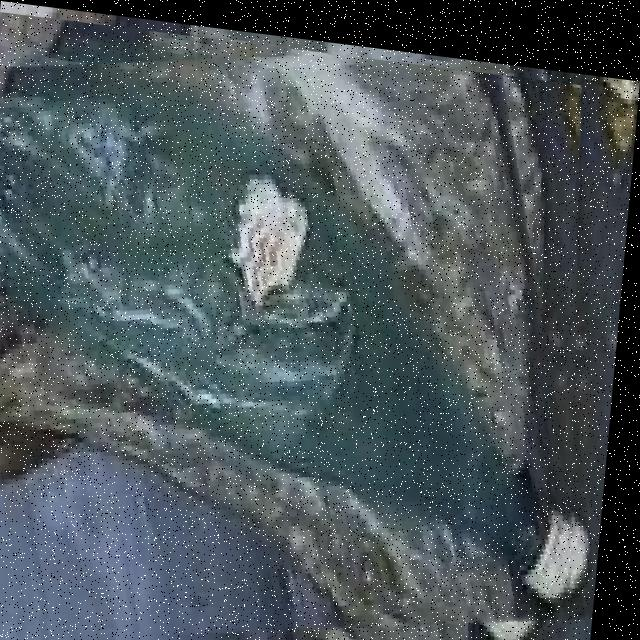plasticbottle: (0, 11, 621, 640)
